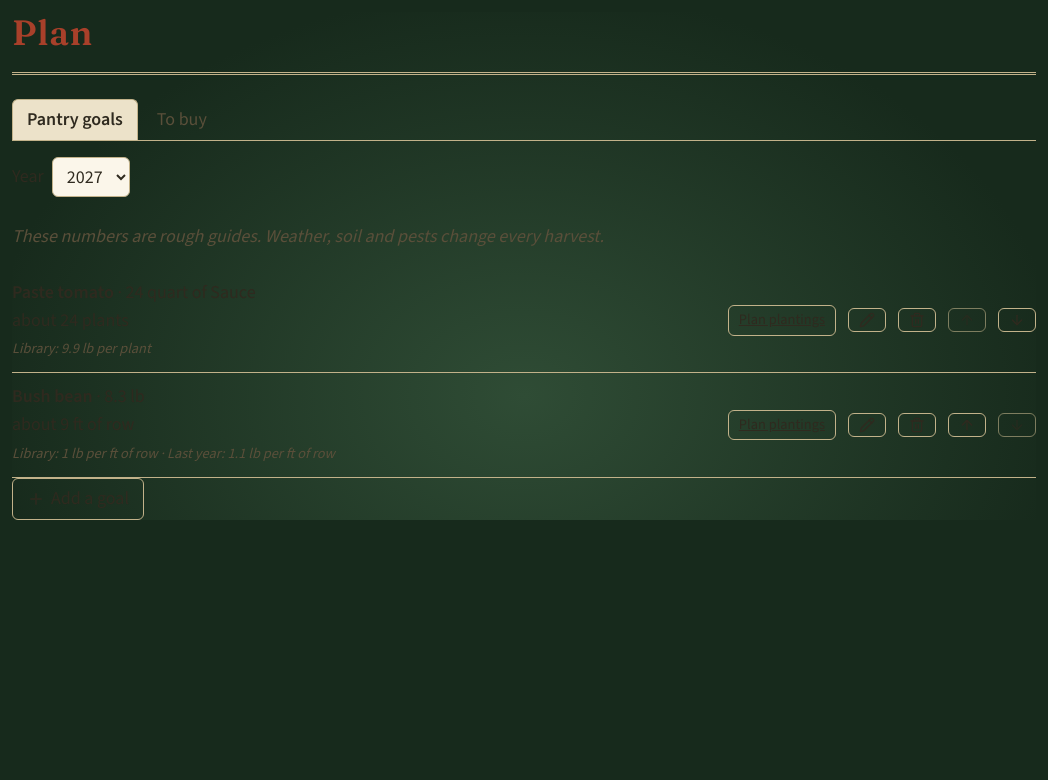
Plan › Plan plantings opens the planting form filled in for next year
The image size is (1048, 780).
Click the link "Plan plantings" in the row of "about 24 plants".
click(782, 320)  # box [728, 305, 836, 336]
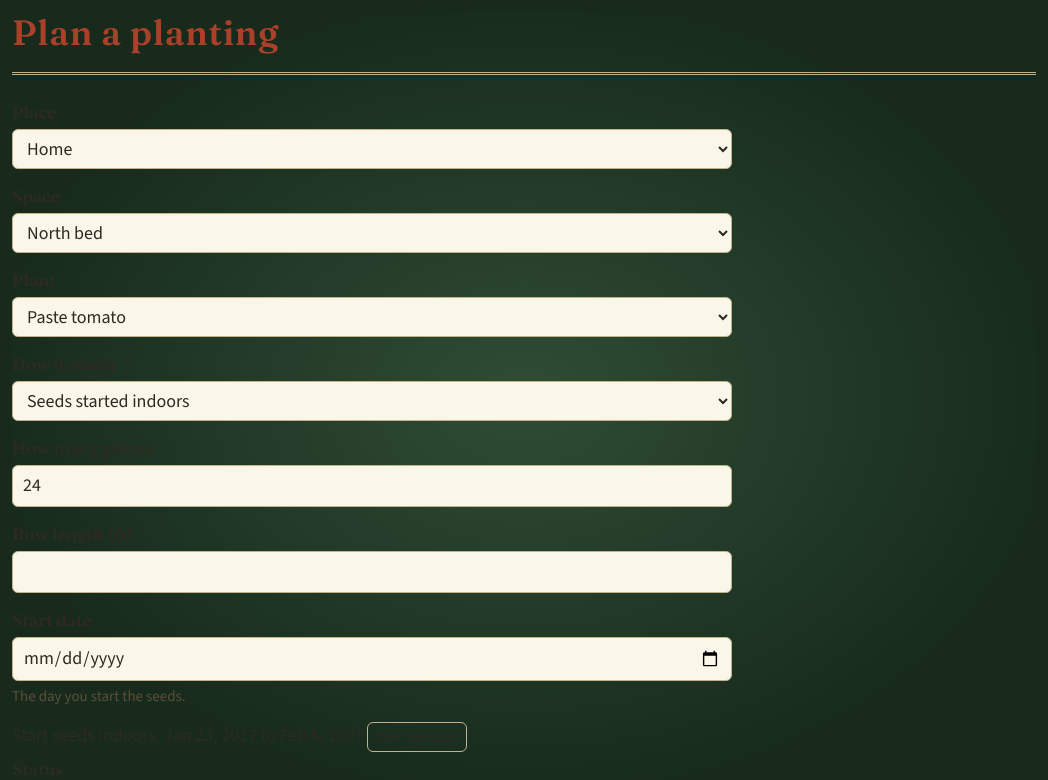
Expected: the field labelled "How many plants" holds "24", [12, 465, 732, 507]
Click the button "Use this date".
click(417, 737)  # box [367, 722, 467, 752]
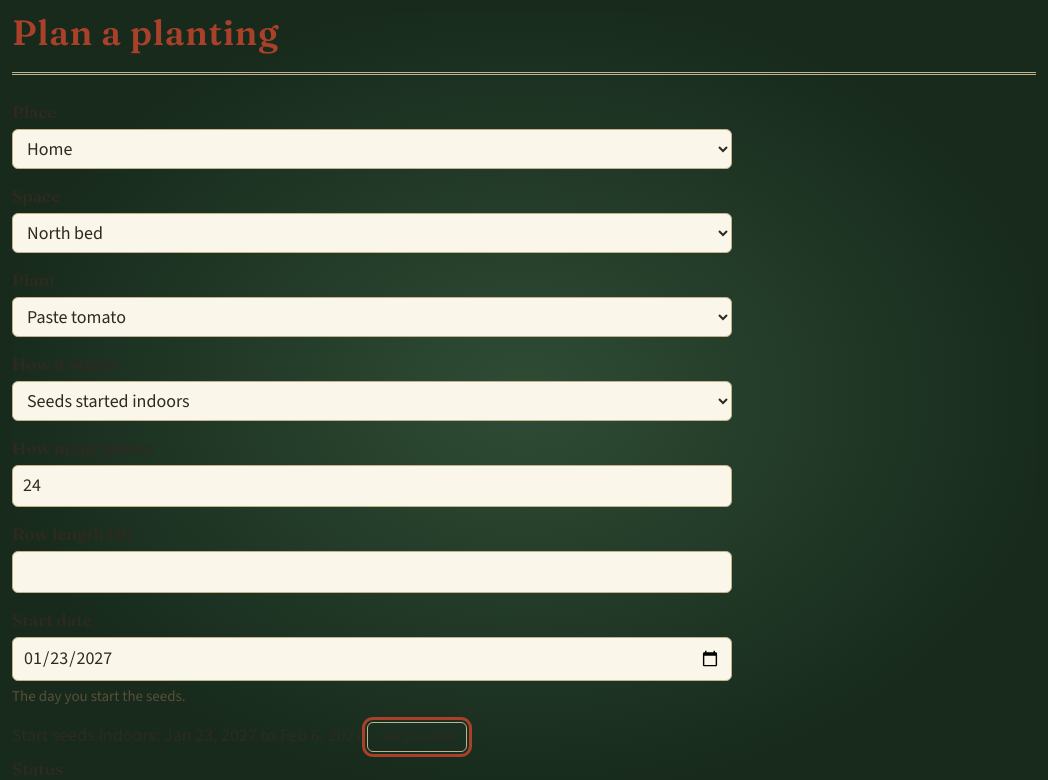
Expected: the date field labelled "Start date" holds "2027-01-23", [12, 637, 732, 681]
